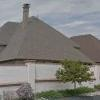Chimney: (19, 0, 32, 26)
